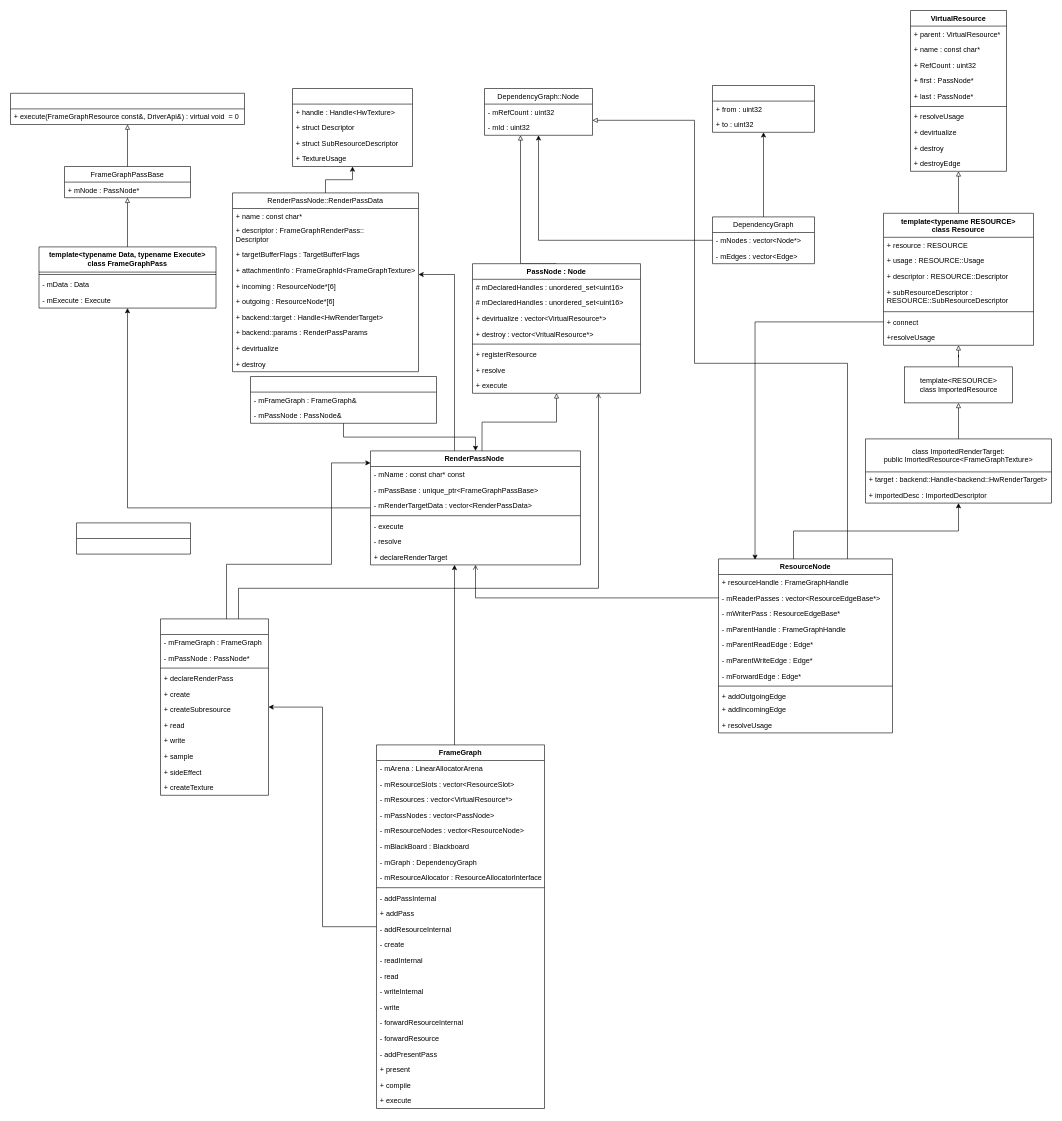
The diagram is 1062 pixels wide and 1121 high, and some of its shapes have lost their labels. The shapes that lost their labels are listed below. From the top down, each one's box as (x1, y1, x2, y2) in pixels, then its label:
(10, 93, 244, 124): FrameGraphPassExecutor
(292, 88, 412, 166): FrameGraphTexture
(712, 85, 814, 132): DependencyGraph::Edge
(250, 376, 436, 423): FrameGraphResources
(76, 522, 190, 554): FrameGraphRenderPass
(160, 618, 268, 795): FrameGraph::Builder
